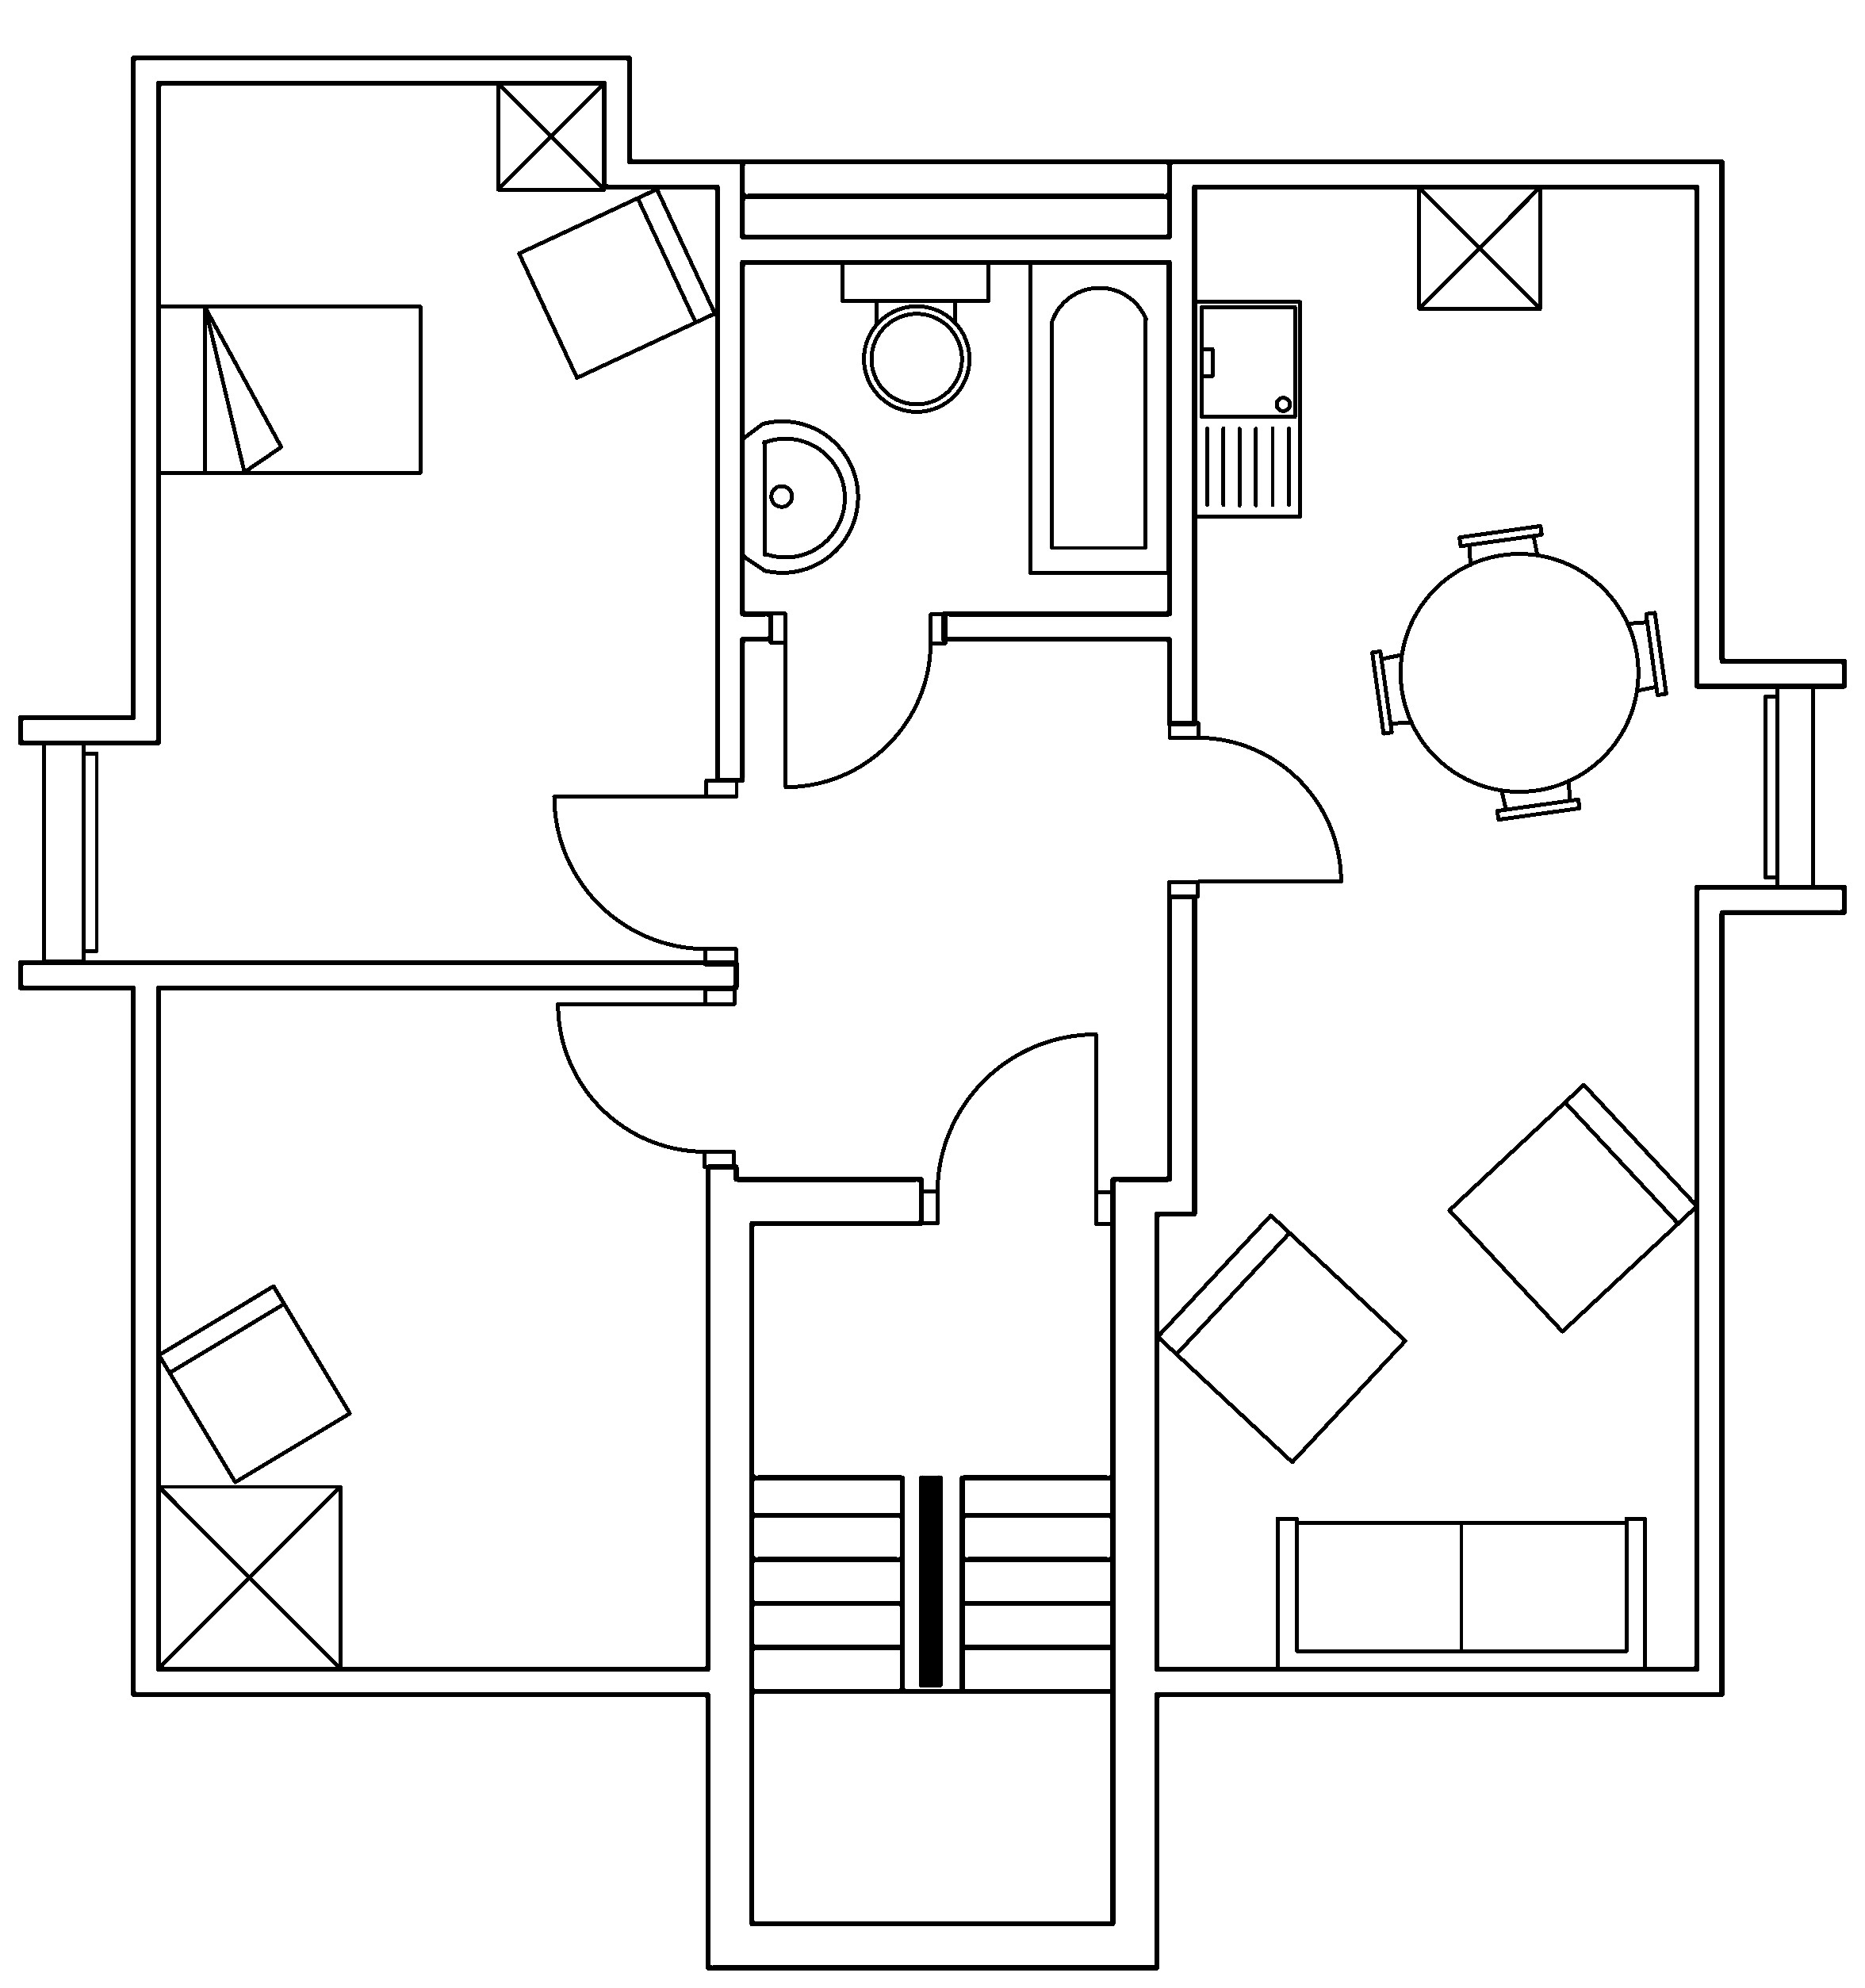bed: (154, 302, 422, 475)
coffee_table: (154, 1481, 342, 1671), (1416, 182, 1542, 310), (494, 79, 606, 191)
large_sink: (840, 258, 990, 412)
large_sofa: (1274, 1515, 1648, 1672)
round_table: (1369, 522, 1669, 822)
sink: (1192, 298, 1302, 519)
small_sink: (740, 419, 859, 573)
small_sofa: (1153, 1211, 1408, 1464), (1446, 1082, 1698, 1334), (156, 1282, 352, 1485), (515, 186, 717, 380)
tub: (1027, 258, 1171, 575)
